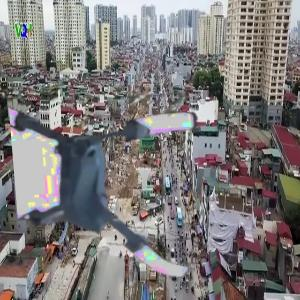drone: (17, 97, 215, 295)
